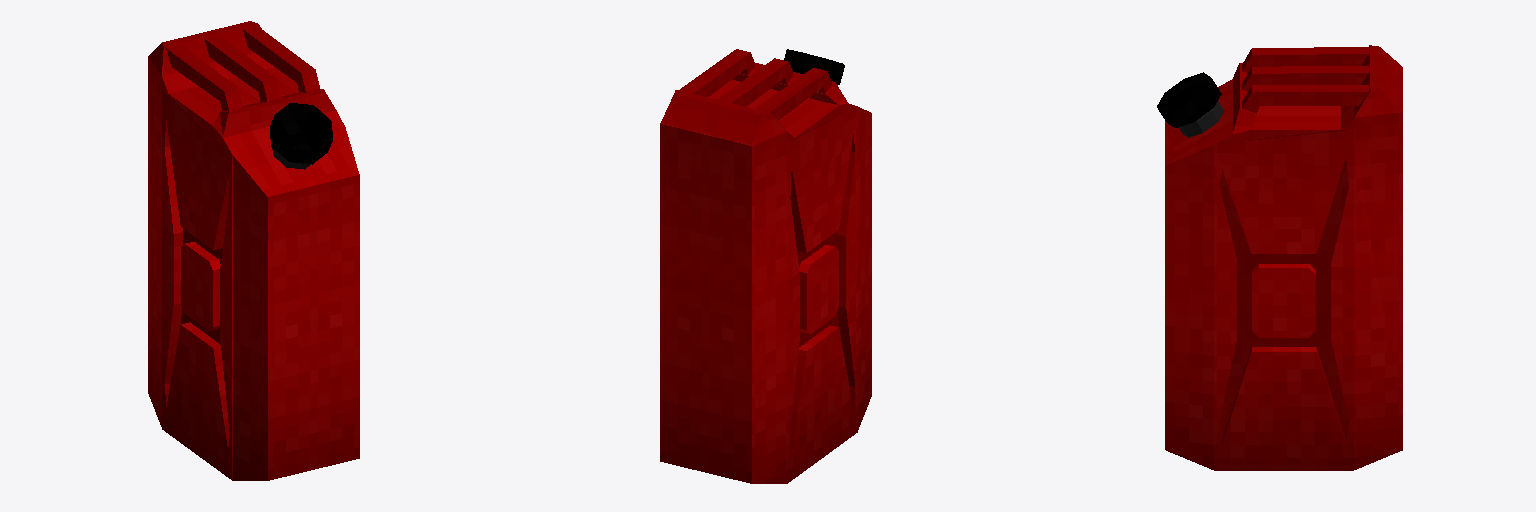
3 renders of one model, left to right at view 1: azimuth 30°, elevation 25°; view 2: azimuth 150°, elevation 25°; view 3: azimuth 270°, elevation 25°, orthographic.
Visible parts, largest first — view 1: Cube; view 2: Cube; view 3: Cube.
Boxes of the visible parts, x1,y1,x2,y2 form: Cube: [148, 21, 359, 480]; Cube: [660, 49, 871, 483]; Cube: [1157, 45, 1402, 470].
Size of the model in its own units: 0.2594 by 0.817 by 0.487.
1 materials, 1 textured.